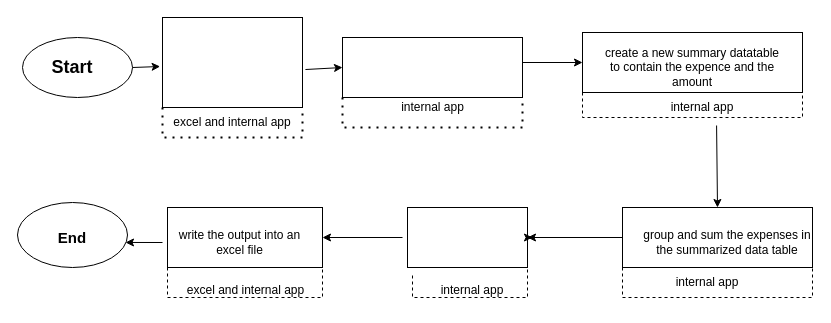
This 831x323 diagram has some shape labels left out. Each missing label, with the centre of its shape:
"calculate the percentages" goes at point (467, 237).
"merge the two datatables into one combined datatable" goes at point (432, 67).
"Read cash and card payment excel files into two datatables" goes at point (232, 62).
